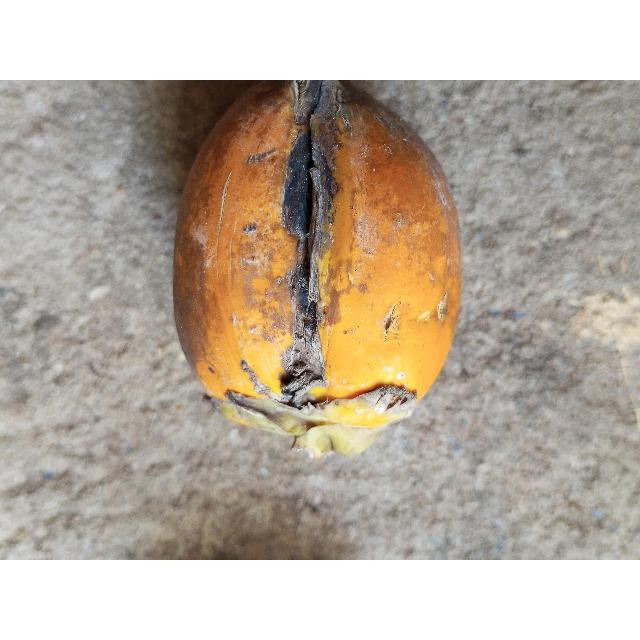damaged: (174, 80, 461, 458)
